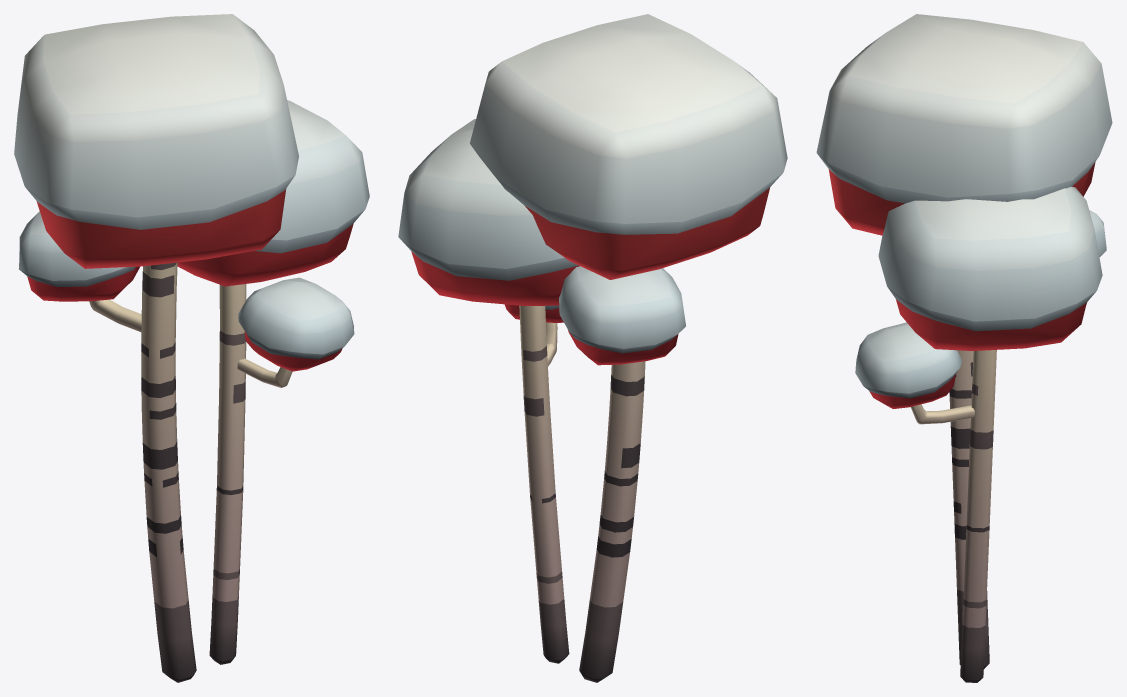
The model's file is birch_tree_col3_06_snow.fbx.
3 views of the same model, side by side, from view 1: azimuth 30°, elevation 25°; view 2: azimuth 150°, elevation 25°; view 3: azimuth 270°, elevation 25° (orthographic). The views are drawn at different scales.
Visible parts, largest first — view 1: birch_tree_col3_06_snow; view 2: birch_tree_col3_06_snow; view 3: birch_tree_col3_06_snow.
Part boxes in pixels (x1,y1,x2,y2): birch_tree_col3_06_snow: (14,14,369,682); birch_tree_col3_06_snow: (398,14,787,682); birch_tree_col3_06_snow: (816,14,1112,682).
Bounding box in the file's own units: 389 × 709 × 313.
Materials: 1 (1 with a texture image).
